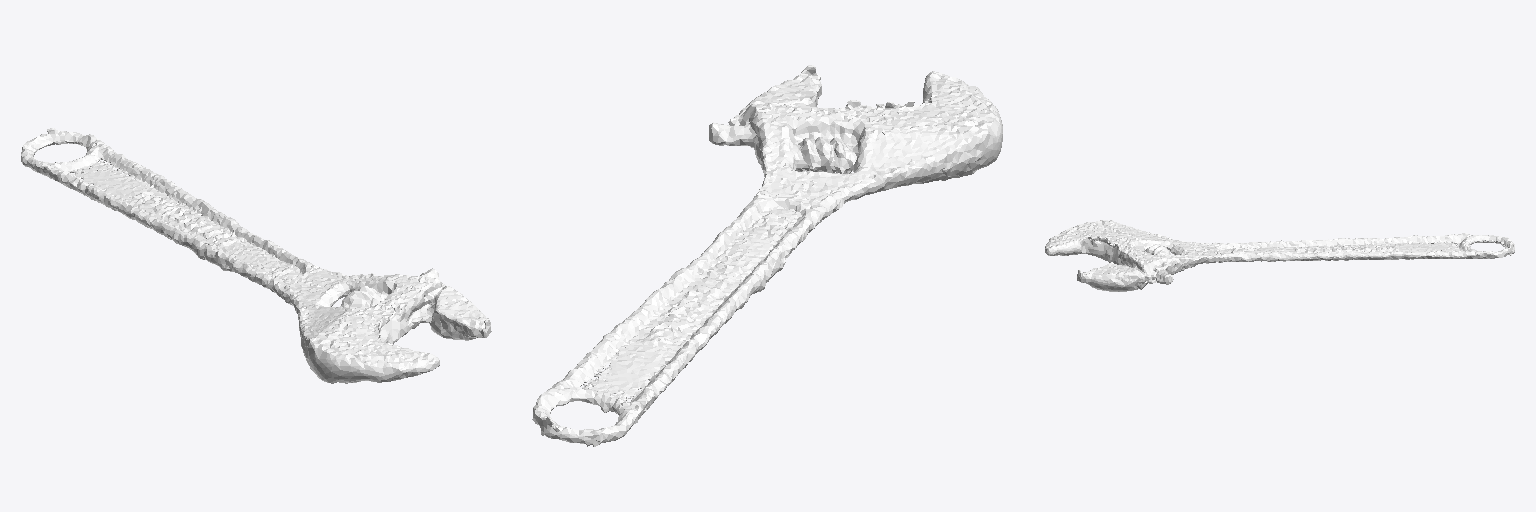
The robot description file, URDF, robot "adjustable_wrench":
<robot name="adjustable_wrench">
    <link name="base_link">
        <visual>
            <origin xyz="-0.0 0.0 -0.0" rpy="0.0 0.0 0.0" />
            <geometry>
                <mesh filename="adjustable_wrench/textured.obj" scale="1 1 1" />
            </geometry>
            <material name="texture">
                <color rgba="1.0 1.0 1.0 1.0" />
            </material>
        </visual>
        <collision>
            <origin xyz="-0.0 0.0 -0.0" rpy="0.0 0.0 0.0" />
            <geometry>
                <mesh filename="adjustable_wrench/textured_coacd_0.stl" scale="1 1 1" />
            </geometry>
        </collision>
        <collision>
            <origin xyz="-0.0 0.0 -0.0" rpy="0.0 0.0 0.0" />
            <geometry>
                <mesh filename="adjustable_wrench/textured_coacd_1.stl" scale="1 1 1" />
            </geometry>
        </collision>
        <collision>
            <origin xyz="-0.0 0.0 -0.0" rpy="0.0 0.0 0.0" />
            <geometry>
                <mesh filename="adjustable_wrench/textured_coacd_2.stl" scale="1 1 1" />
            </geometry>
        </collision>
        <collision>
            <origin xyz="-0.0 0.0 -0.0" rpy="0.0 0.0 0.0" />
            <geometry>
                <mesh filename="adjustable_wrench/textured_coacd_3.stl" scale="1 1 1" />
            </geometry>
        </collision>
        <collision>
            <origin xyz="-0.0 0.0 -0.0" rpy="0.0 0.0 0.0" />
            <geometry>
                <mesh filename="adjustable_wrench/textured_coacd_4.stl" scale="1 1 1" />
            </geometry>
        </collision>
        <inertial>
            <mass value="0.252" />
            <inertia ixx="1e-3" ixy="0.0" ixz="0.0" iyy="1e-3" iyz="0.0" izz="1e-3" />
        </inertial>
    </link>
</robot>

--- What the picture shows (computed from the rendered views, not written in the file) ---
Views: 3 orthographic renders of the robot side by side, from view 1: azimuth 30°, elevation 25°; view 2: azimuth 150°, elevation 25°; view 3: azimuth 270°, elevation 25°.
Robot: adjustable_wrench — 1 links, 0 joints (none); root link base_link; default pose: every joint at zero.
Links seen in each view (by area): view 1: base_link; view 2: base_link; view 3: base_link.
Boxes of the visible links, box(x1,y1,x2,y2) form: base_link: box(21, 128, 491, 383); base_link: box(532, 65, 1002, 446); base_link: box(1045, 220, 1514, 291).
Size in the robot's own frame: 0.0584 by 0.2028 by 0.0137 metres.
1 mesh visuals loaded from 1 distinct referenced files (1 OBJ).